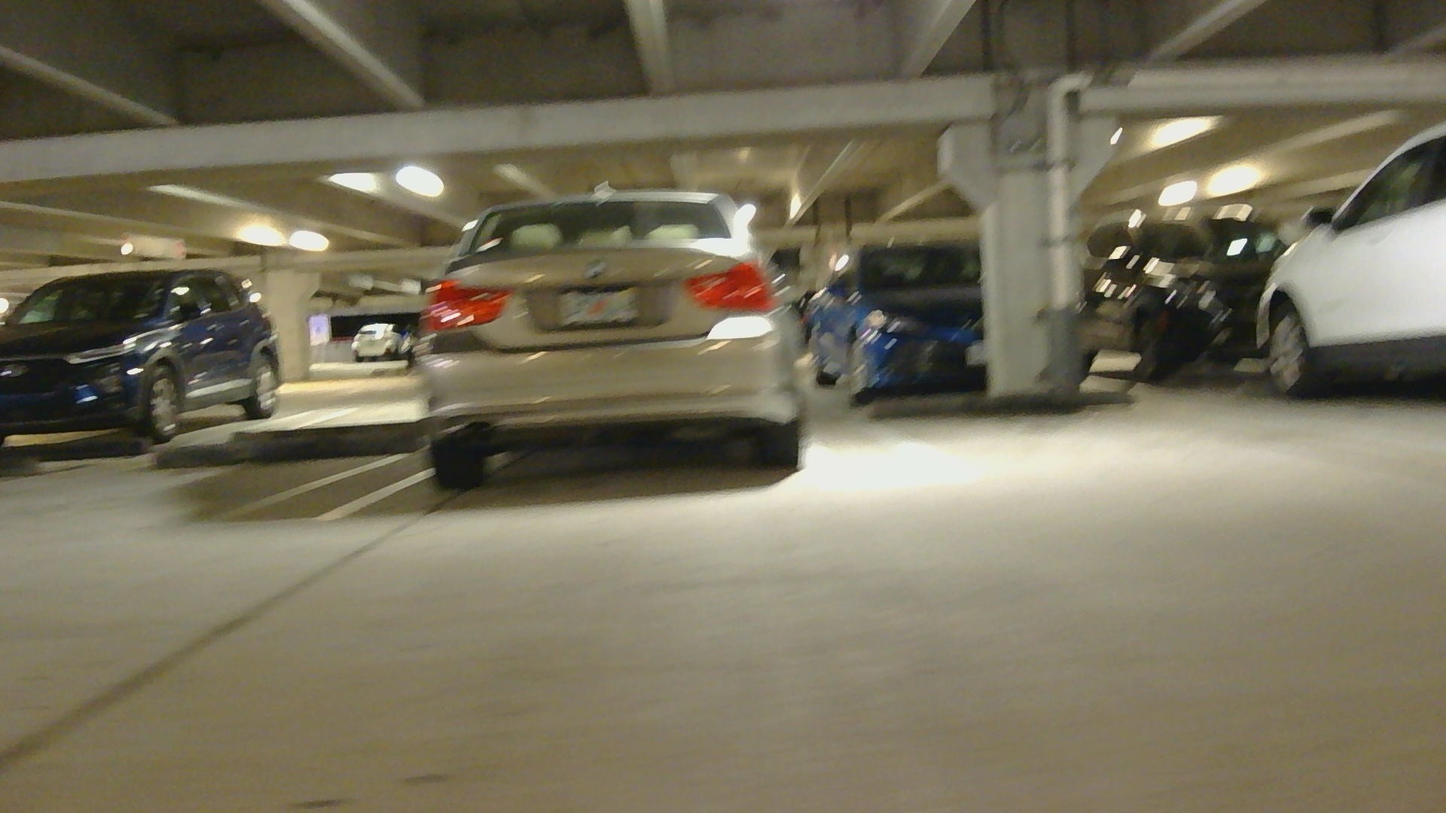empty_spot: (868, 385, 1446, 484), (0, 423, 421, 546)
occupied_spot: (416, 186, 806, 499)
